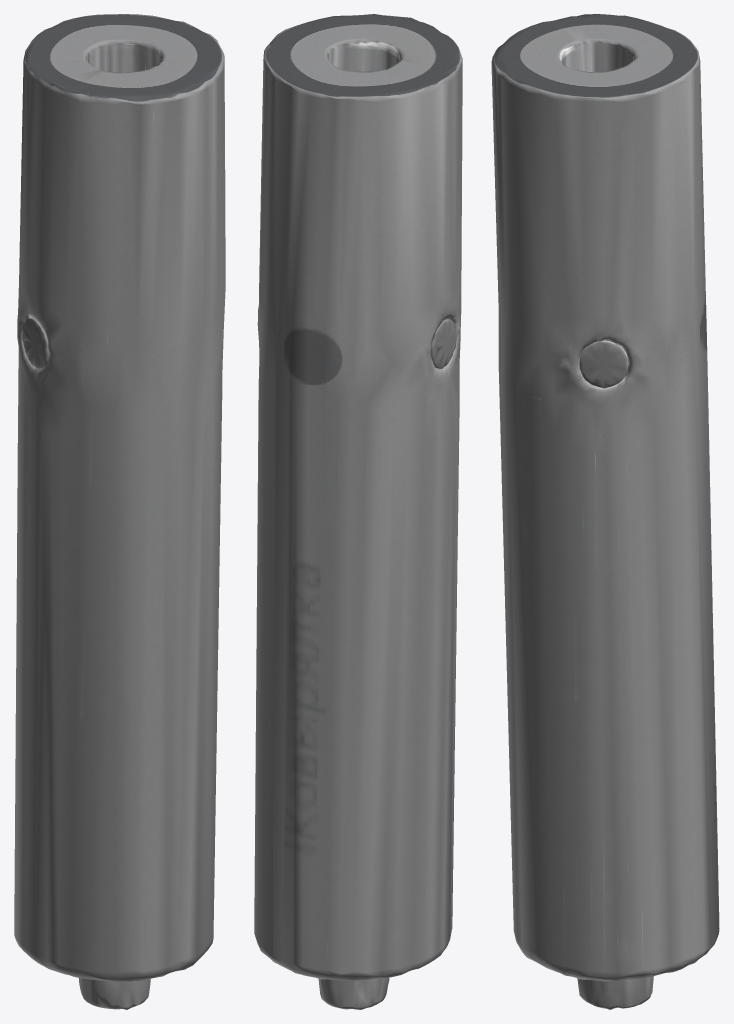
Rendered from ikoviryalka_3D.glb.
3 views of the same model, side by side, from view 1: azimuth 30°, elevation 25°; view 2: azimuth 150°, elevation 25°; view 3: azimuth 270°, elevation 25° (orthographic).
Visible parts, largest first — view 1: Mesh_0; view 2: Mesh_0; view 3: Mesh_0.
Boxes of the visible parts, bbox=[...] form: Mesh_0: bbox=[14, 14, 225, 1009]; Mesh_0: bbox=[254, 14, 462, 1009]; Mesh_0: bbox=[491, 14, 719, 1009].
Size of the model in its own units: 0.0128 by 0.065 by 0.0143.
1 material, 1 textured.
